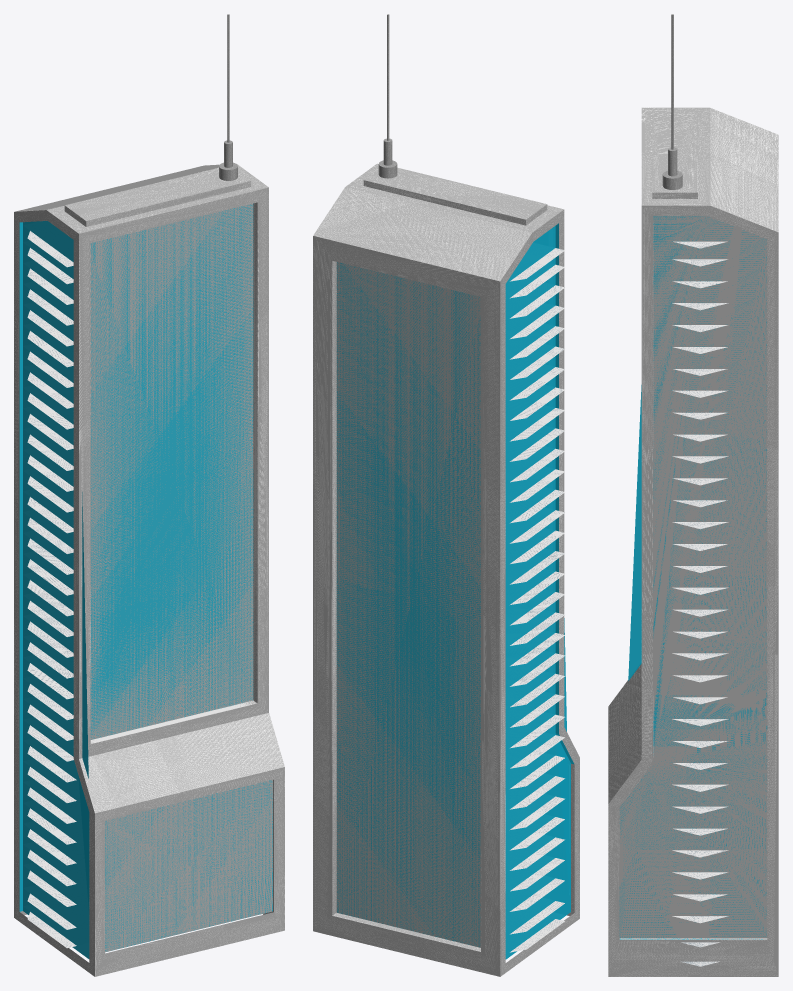
Rendered from Building5.fbx.
3 renders of one model, left to right at view 1: azimuth 30°, elevation 25°; view 2: azimuth 150°, elevation 25°; view 3: azimuth 270°, elevation 25°, orthographic. The views are drawn at different scales.
Visible parts, largest first — view 1: G_234234_1; view 2: G_234234_1; view 3: G_234234_1.
Boxes of the visible parts, box(x1,y1,x2,y2) form: G_234234_1: box(14, 14, 284, 976); G_234234_1: box(313, 14, 579, 976); G_234234_1: box(608, 14, 778, 976).
Bounding box in the file's own units: 3430 × 14268 × 2323.
